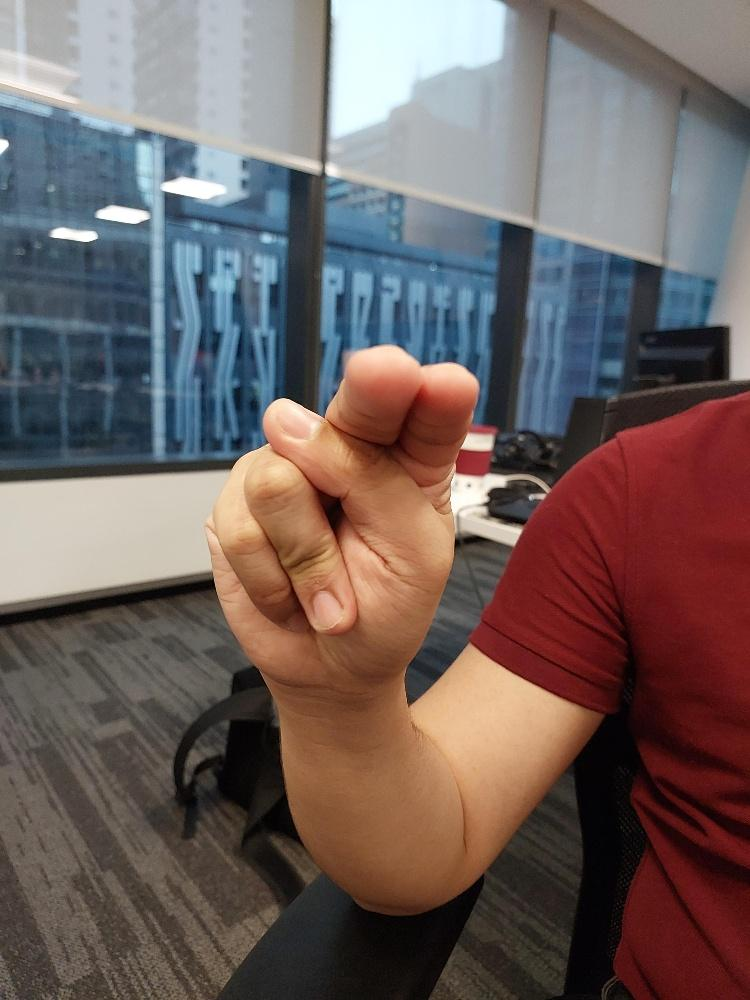n: (199, 341, 483, 699)
